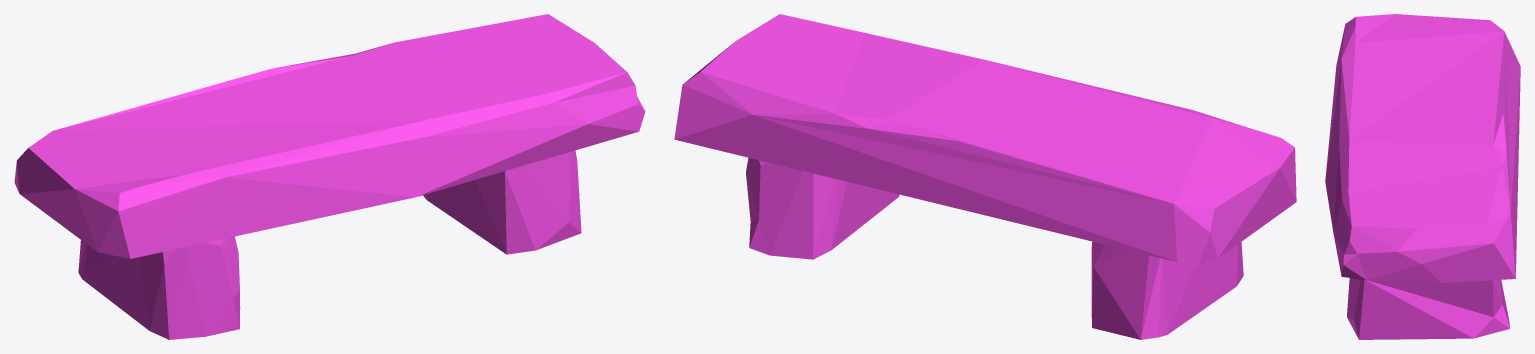
File: SM_Bench_Stone_Simple_A_Fantasy.fbx
3 renders of one model, left to right at view 1: azimuth 30°, elevation 25°; view 2: azimuth 150°, elevation 25°; view 3: azimuth 270°, elevation 25°, orthographic. The views are drawn at different scales.
Visible parts, largest first — view 1: SM_Bench_Stone_Simple_A_Fantasy; view 2: SM_Bench_Stone_Simple_A_Fantasy; view 3: SM_Bench_Stone_Simple_A_Fantasy.
Part boxes in pixels (x1=…): SM_Bench_Stone_Simple_A_Fantasy: x1=14, y1=14, x2=645, y2=339; SM_Bench_Stone_Simple_A_Fantasy: x1=674, y1=14, x2=1296, y2=339; SM_Bench_Stone_Simple_A_Fantasy: x1=1325, y1=14, x2=1520, y2=339.
Bounding box in the file's own units: 2 × 0.5567 × 0.7283.
